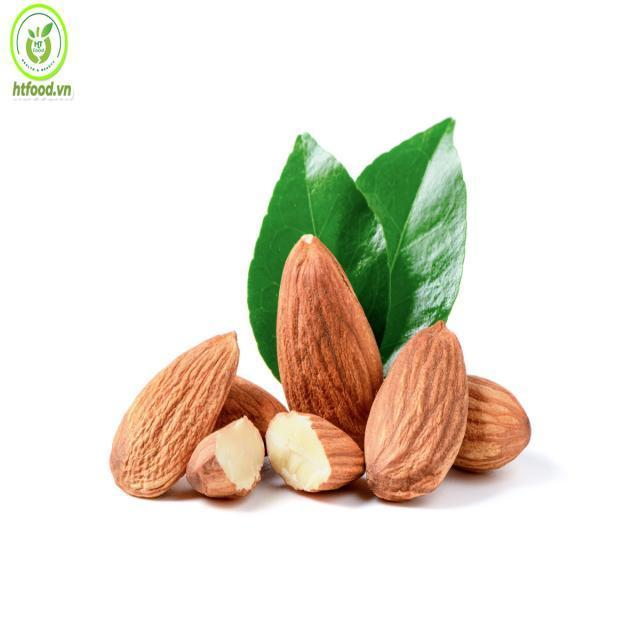almond: (109, 330, 242, 500), (275, 235, 385, 428), (362, 318, 469, 502), (447, 371, 532, 471)
